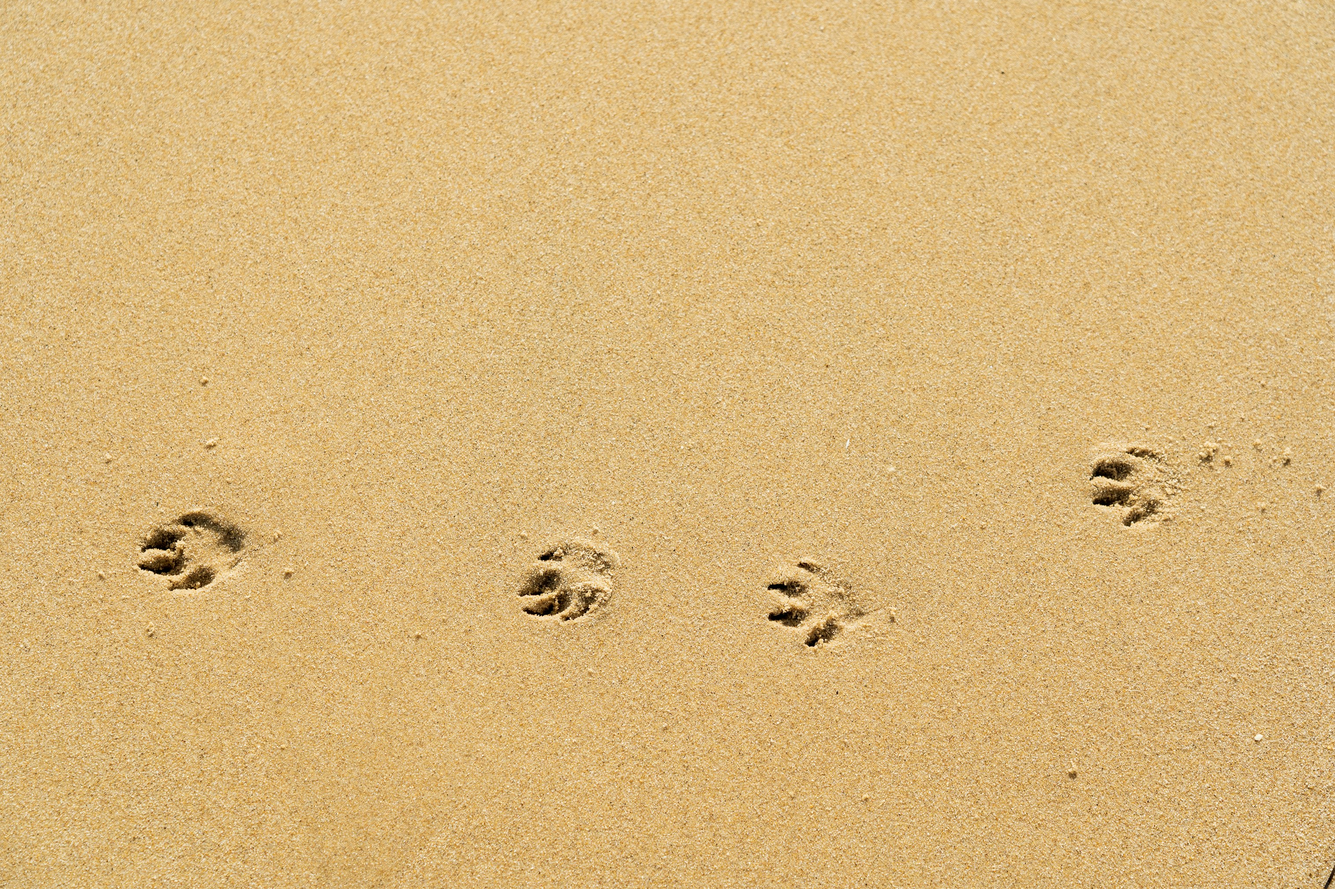animal_footprint: (767, 560, 867, 647), (139, 510, 245, 590), (518, 538, 619, 621), (1091, 445, 1177, 527)
